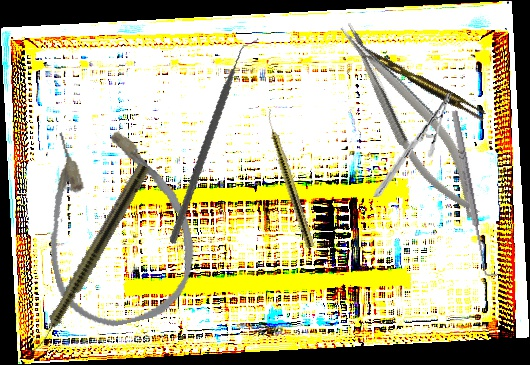Cannula: (23, 109, 208, 337)
Chopper: (132, 38, 298, 245)
Handpiece: (26, 161, 152, 359), (261, 108, 317, 249)
Hook Surgical: (448, 107, 498, 280)
Needle Holder: (330, 9, 493, 229), (373, 85, 453, 205)
Tissue Forceps: (356, 38, 488, 126)
